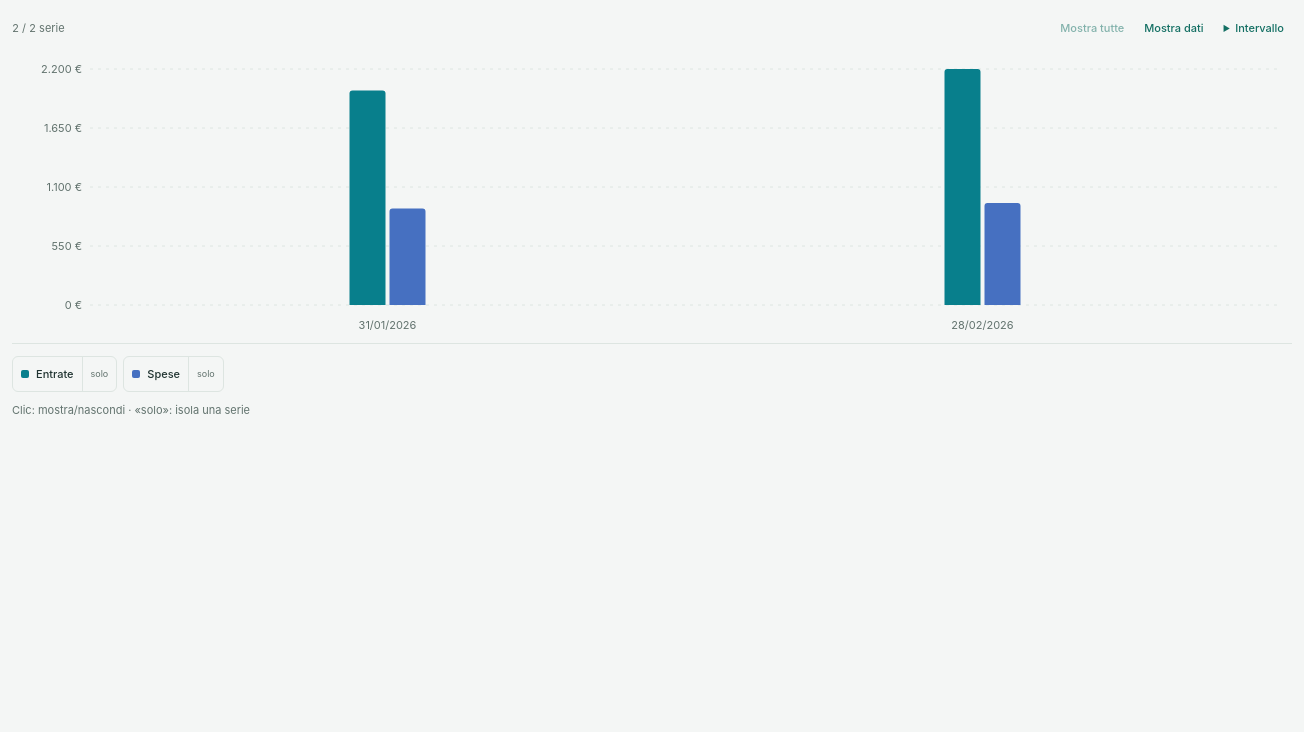
it: zooms the chart and table together and resets the date bounds
Click the heading "Intervallo" at {"x": 1260, "y": 28}, box [1235,21,1284,35]
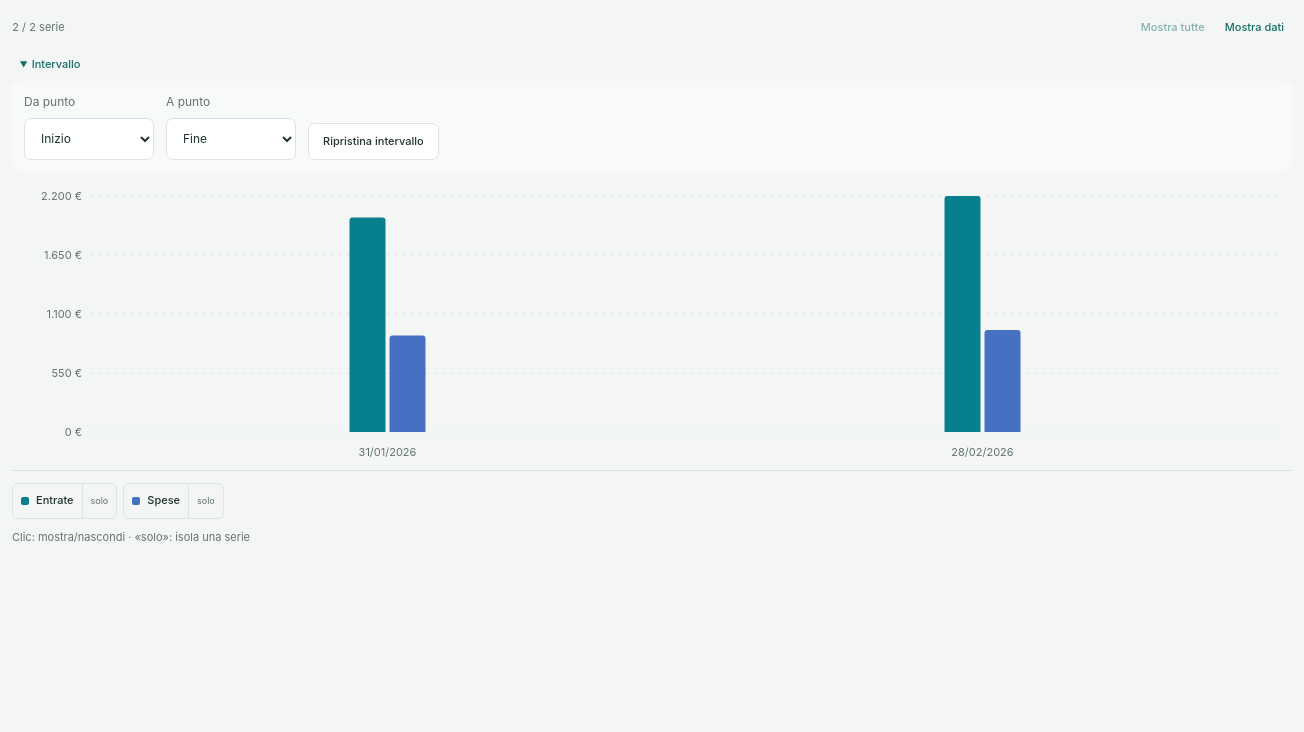
Select "28/02/2026" in the dropdown named "Inizio intervallo grafico" at {"x": 89, "y": 139}, box [24,118,154,160]
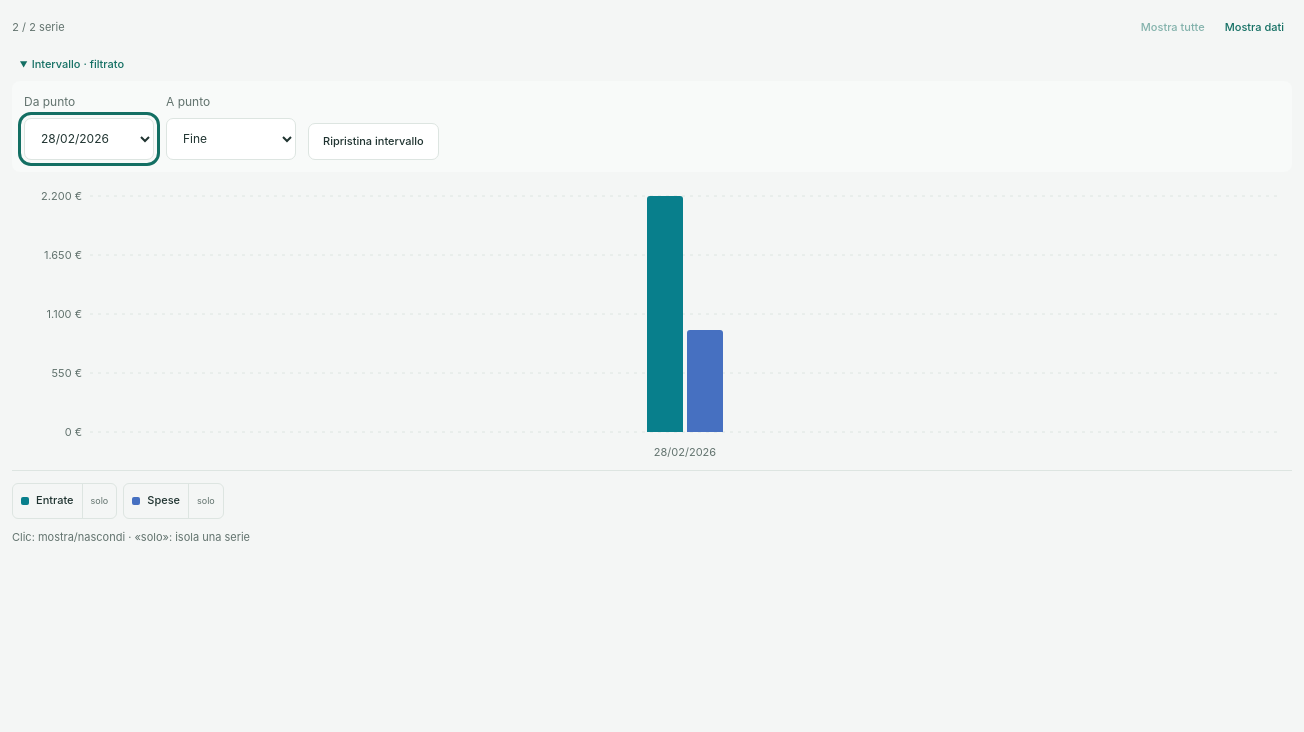
Click the button "Mostra dati" at {"x": 1254, "y": 28}, box [1217,12,1292,44]
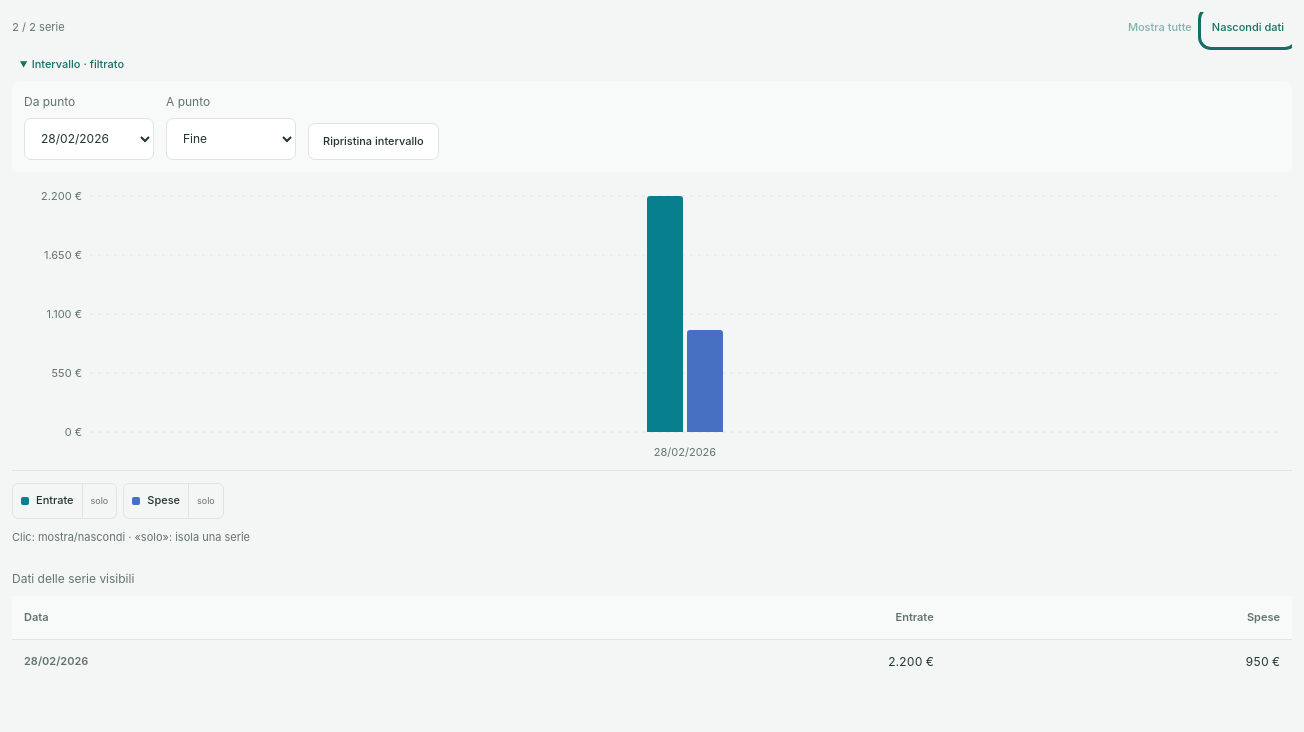
Expected: the number of rows is 2, [12,596,1292,640]; [12,640,1292,685]
Click the button "Ripristina intervallo" at {"x": 373, "y": 141}, box [308,123,439,160]
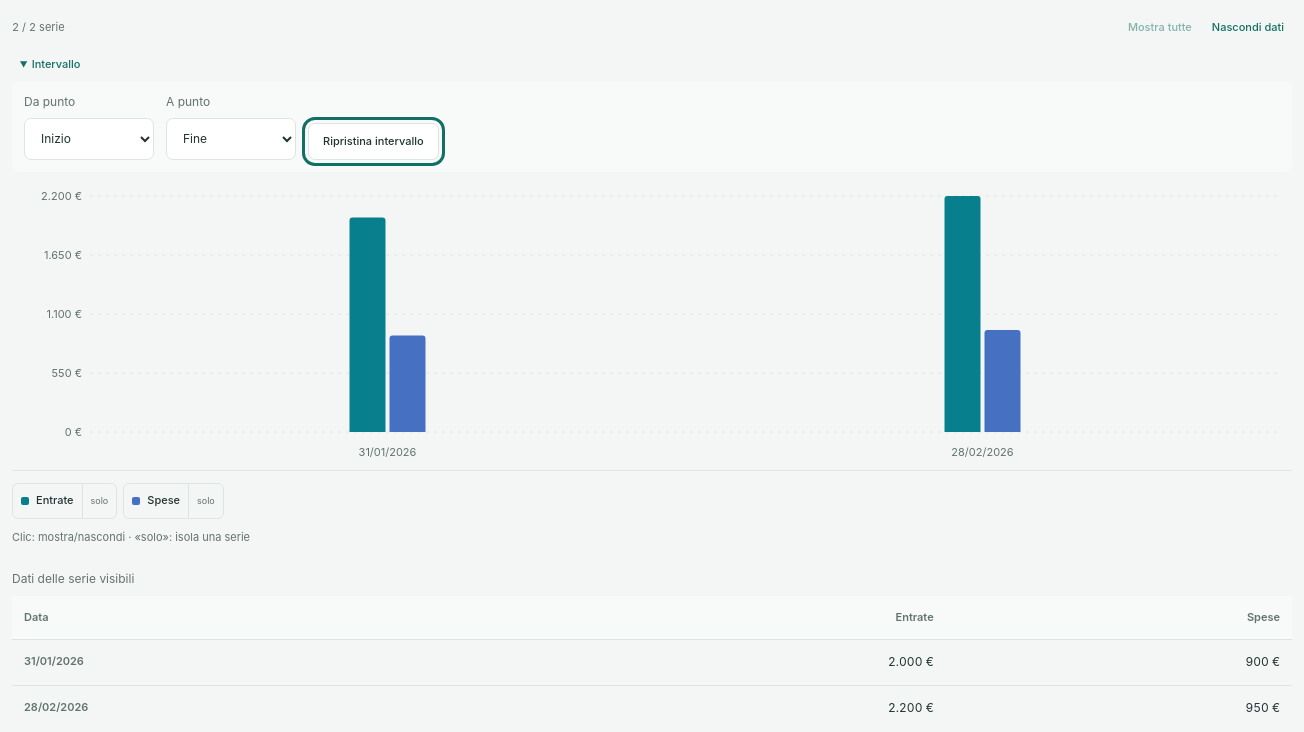
Expected: the number of rows is 3, [12,596,1292,640]; [12,640,1292,685]; [12,685,1292,730]
